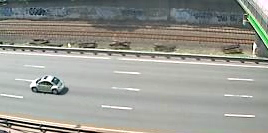car: (28, 73, 68, 97)
